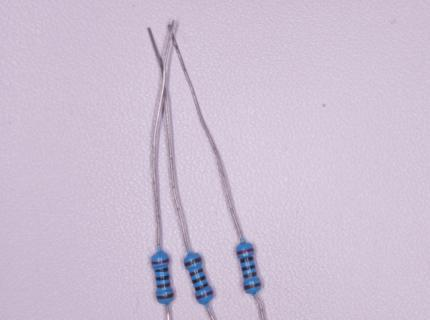Black band: (194, 282, 210, 292), (239, 255, 255, 264), (192, 276, 206, 284), (241, 264, 256, 271), (155, 275, 170, 282), (155, 267, 169, 273)
Brown band: (184, 257, 203, 267), (243, 282, 262, 291), (189, 268, 204, 277), (156, 293, 174, 300), (243, 271, 257, 279), (156, 282, 171, 289)
Red band: (195, 290, 214, 301), (151, 258, 171, 266), (236, 248, 254, 256)
